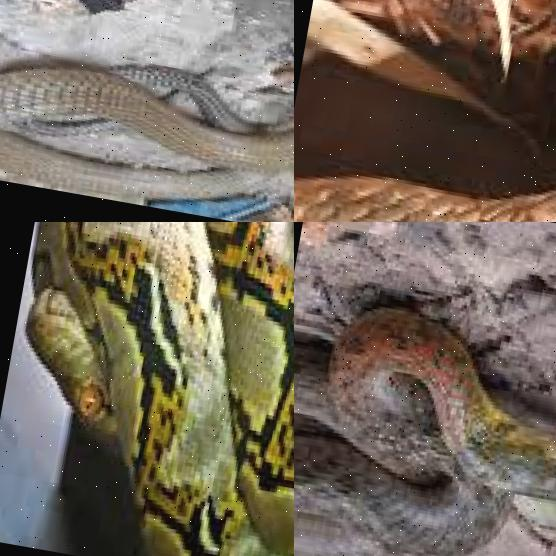snake: (0, 222, 294, 556), (0, 0, 294, 222), (294, 314, 556, 556), (294, 86, 556, 222)
